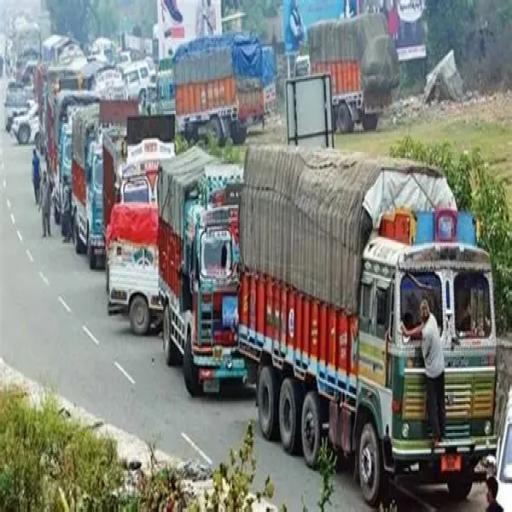car: (10, 94, 42, 148), (124, 60, 152, 102)
person: (400, 296, 446, 445), (38, 169, 51, 237), (31, 148, 41, 204)
truck: (234, 141, 498, 509), (156, 144, 256, 396), (168, 32, 272, 146), (306, 9, 400, 134), (105, 196, 160, 335), (104, 110, 176, 193), (70, 109, 103, 261)
